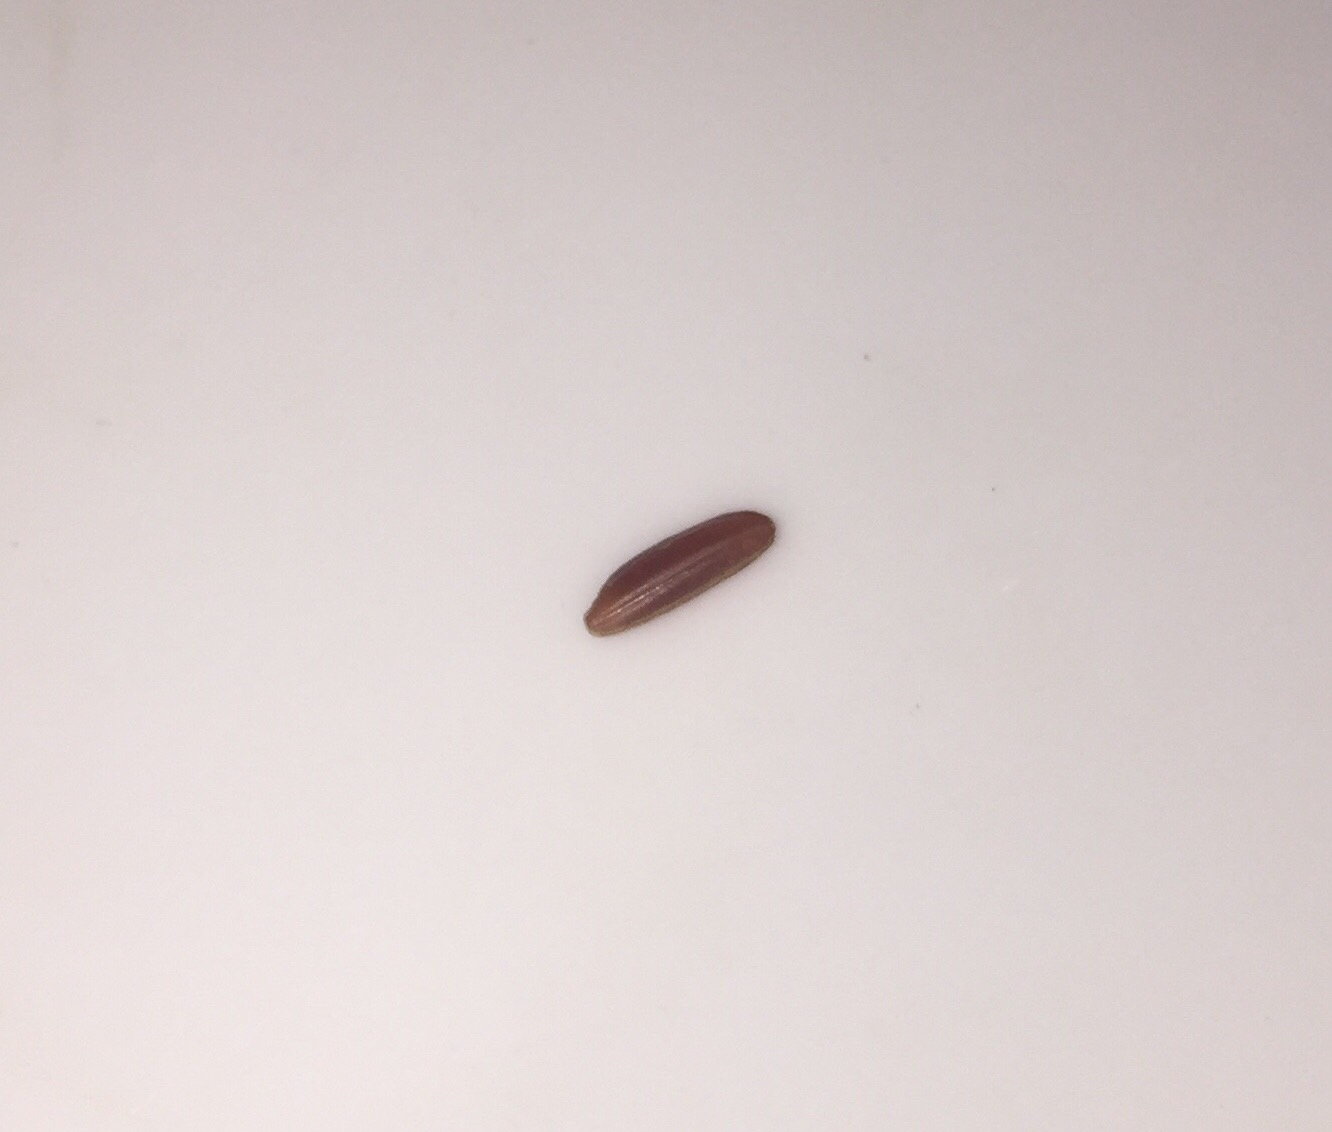Gao Huyet Rong: (573, 493, 787, 650)
